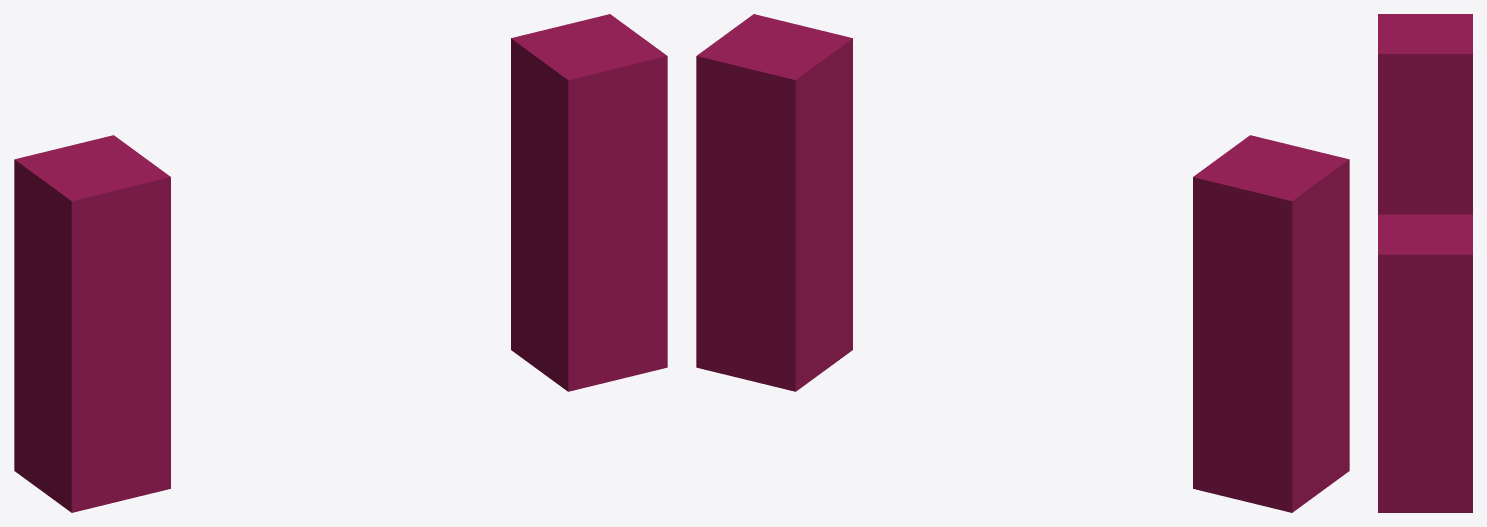
Rendered from nave3-rosa.obj.
3 views of the same model, side by side, from view 1: azimuth 30°, elevation 25°; view 2: azimuth 150°, elevation 25°; view 3: azimuth 270°, elevation 25° (orthographic). The views are drawn at different scales.
Bounding box in the file's own units: 0.6 × 0.3 × 0.1.
Materials: 1 (1 with a texture image).
